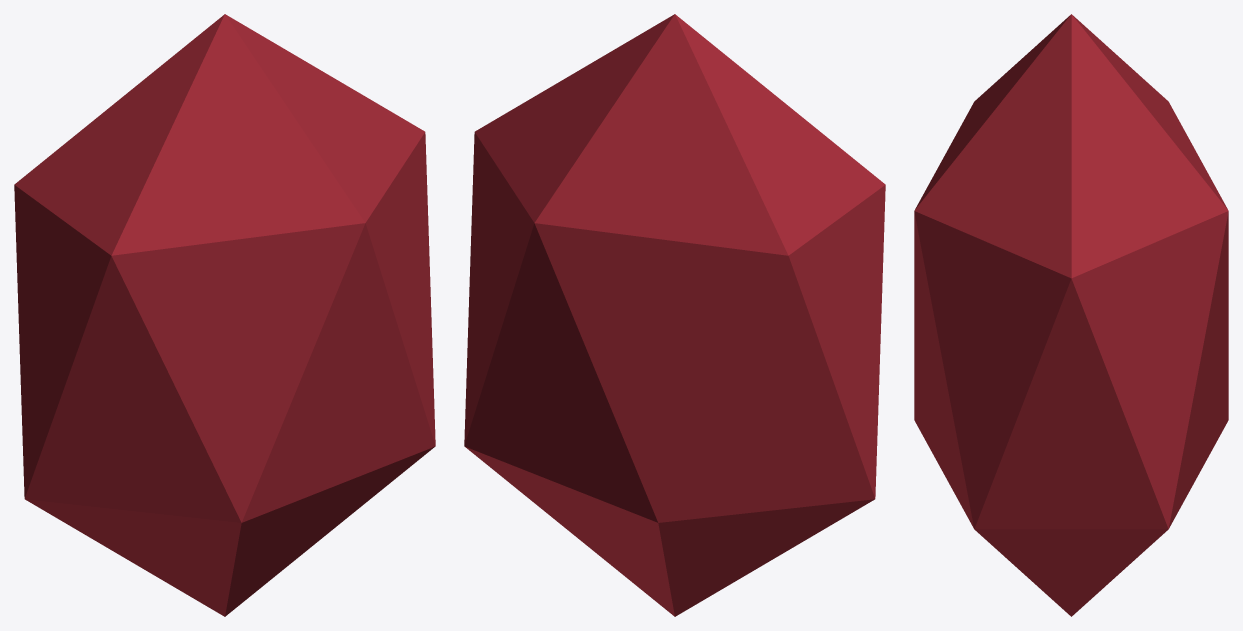
The model's file is gore_00.glb.
3 views of the same model, side by side, from view 1: azimuth 30°, elevation 25°; view 2: azimuth 150°, elevation 25°; view 3: azimuth 270°, elevation 25° (orthographic).
Parts seen in each view (by area): view 1: CHUNK; view 2: CHUNK; view 3: CHUNK.
Boxes of the visible parts, left/top/right/bottom form: CHUNK: left=14, top=14, right=435, bottom=616; CHUNK: left=464, top=14, right=885, bottom=616; CHUNK: left=914, top=14, right=1228, bottom=616.
Bounding box in the file's own units: 0.0626 × 0.09 × 0.0425.
